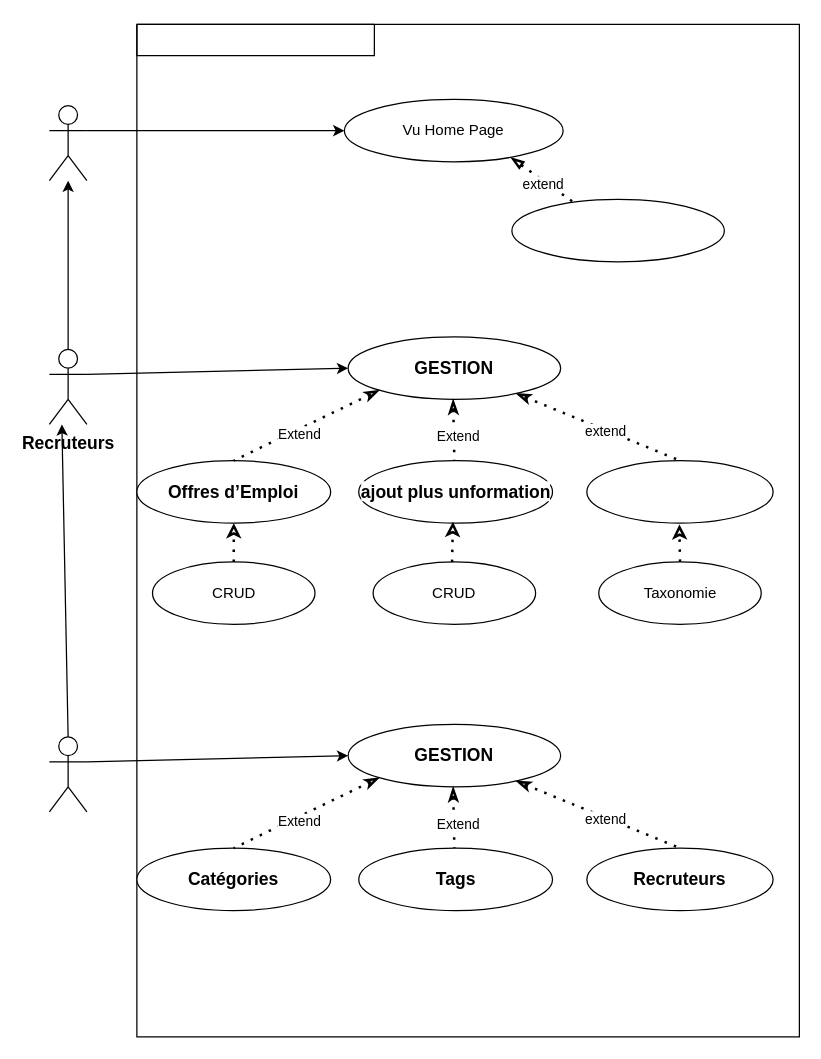
Some shapes in this 821 by 1059 pixel diagram are drawn without their labels. Here are the shapes that lost their labels. From the top down, the centre of each, then its label:
At [255,39]: "Graphe_CareerLink".
At [67,142]: "utilisateur".
At [617,230]: "Login".
At [679,491]: "catégorie et tage".
At [67,774]: "administrator".
